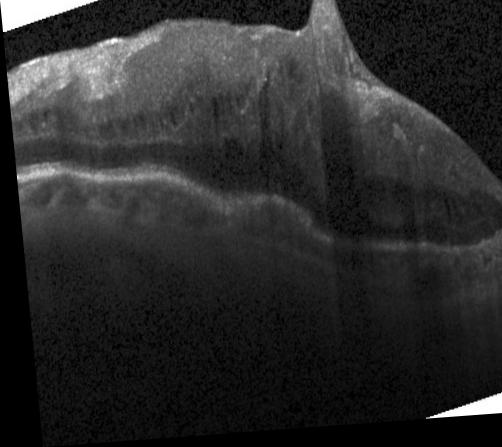intraretinal_cyst: (255, 75, 273, 160), (285, 62, 301, 99), (275, 104, 286, 153), (219, 139, 242, 161), (287, 110, 304, 139), (25, 113, 37, 134), (209, 100, 216, 130), (216, 100, 224, 126), (183, 97, 192, 117), (167, 113, 176, 131), (225, 102, 232, 119), (12, 120, 21, 131), (137, 118, 143, 132), (304, 109, 310, 122), (40, 111, 47, 120), (156, 119, 161, 130), (130, 120, 135, 129), (119, 123, 123, 133), (234, 101, 237, 112)
